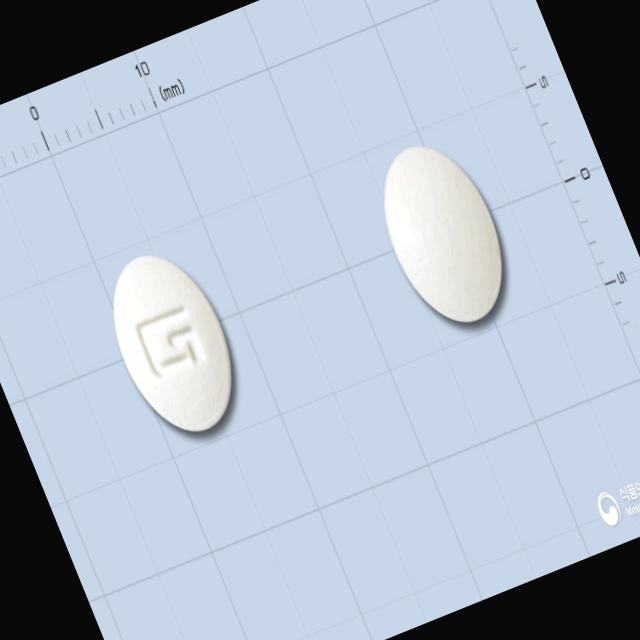Lefexin: (89, 236, 256, 448)
